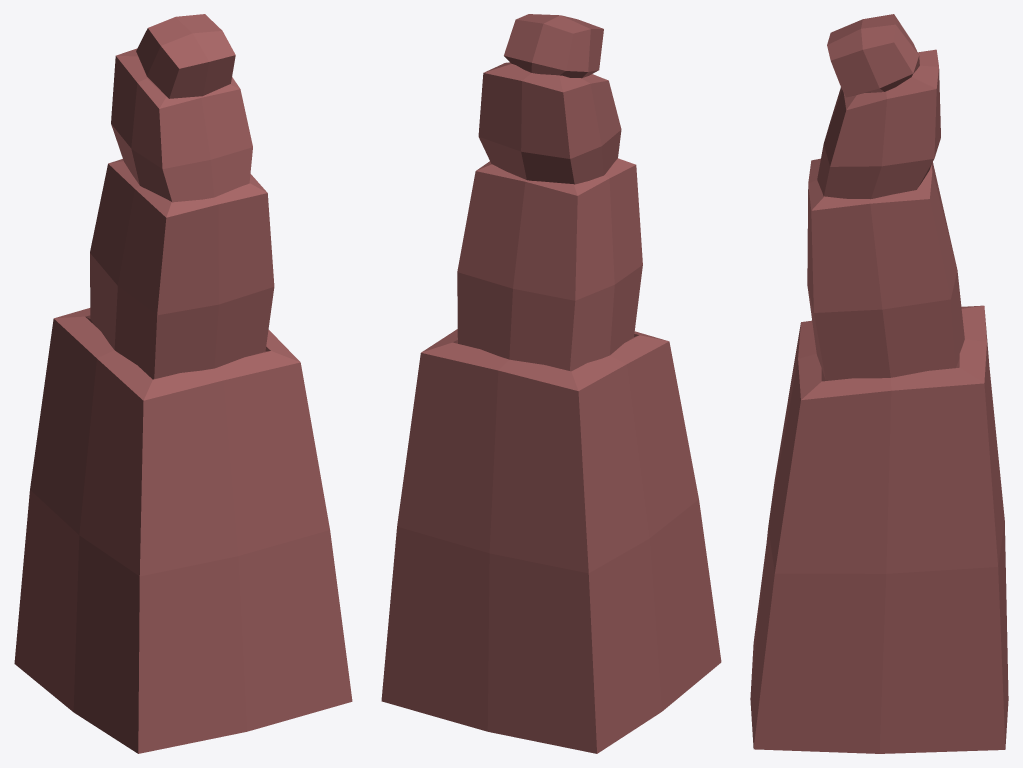
The model's file is StoneStructure_3.fbx.
3 renders of one model, left to right at view 1: azimuth 30°, elevation 25°; view 2: azimuth 150°, elevation 25°; view 3: azimuth 270°, elevation 25°, orthographic.
Visible parts, largest first — view 1: Cube; view 2: Cube; view 3: Cube.
Part boxes in pixels (x1,y1,x2,y2): Cube: (14, 14, 352, 753); Cube: (381, 14, 721, 753); Cube: (750, 14, 1008, 753).
Bounding box in the file's own units: 788 × 2295 × 788.
